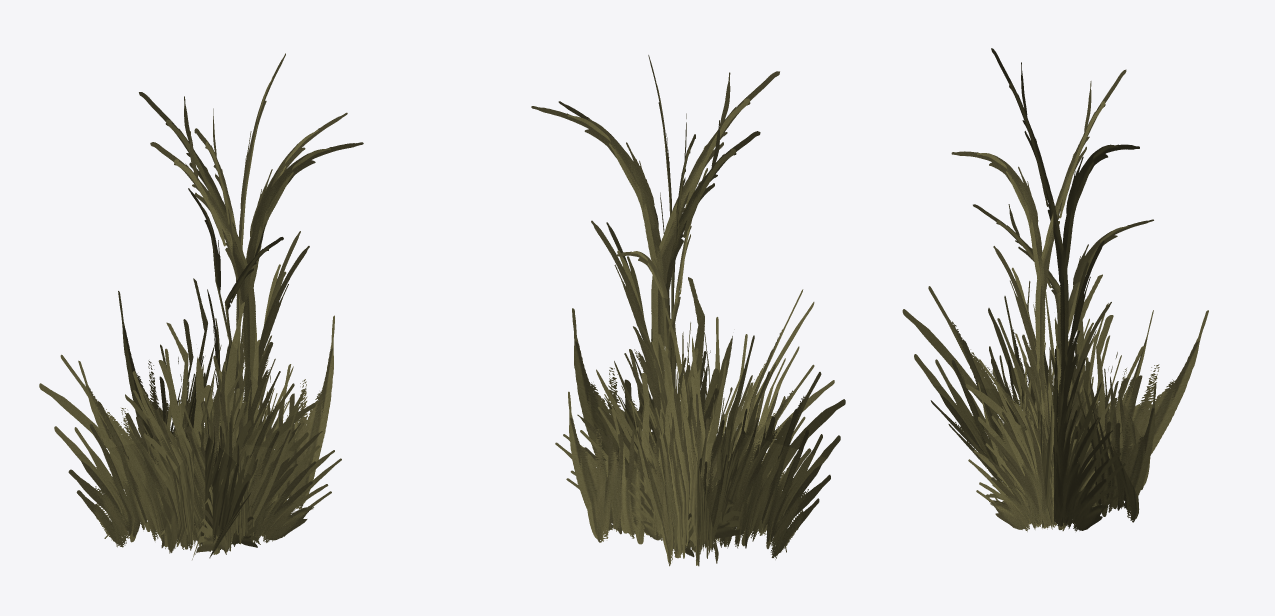
File: shared_yellow_grass_00.fbx
3 renders of one model, left to right at view 1: azimuth 30°, elevation 25°; view 2: azimuth 150°, elevation 25°; view 3: azimuth 270°, elevation 25°, orthographic. The views are drawn at different scales.
Parts seen in each view (by area): view 1: shared_yellow_grass_00; view 2: shared_yellow_grass_00; view 3: shared_yellow_grass_00.
Boxes of the visible parts, left/top/right/bottom form: shared_yellow_grass_00: left=39, top=53, right=363, bottom=559; shared_yellow_grass_00: left=531, top=55, right=845, bottom=566; shared_yellow_grass_00: left=902, top=48, right=1208, bottom=531.
Bounding box in the file's own units: 1.57 × 2.14 × 1.41.
